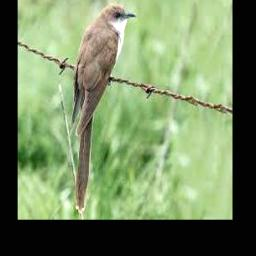Cuckoo: (71, 4, 137, 214)
